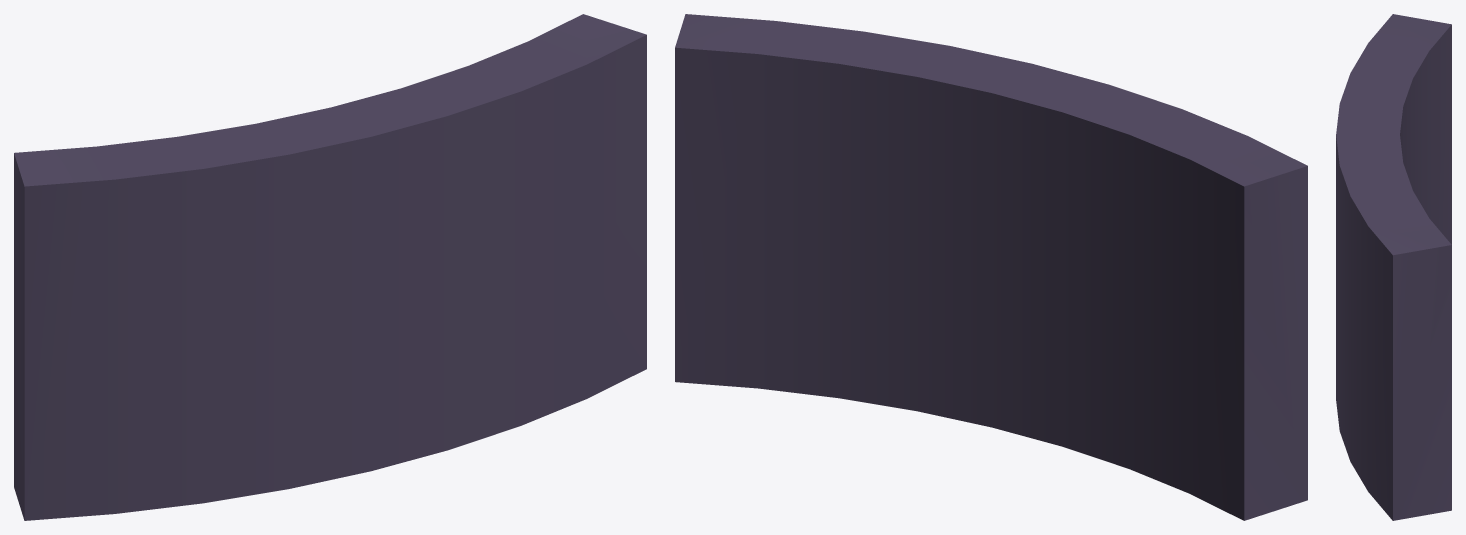
File: Outer_02.fbx
The picture shows the model from 3 angles, left to right: view 1: azimuth 30°, elevation 25°; view 2: azimuth 150°, elevation 25°; view 3: azimuth 270°, elevation 25°; orthographic projection. The views are drawn at different scales.
Visible parts, largest first — view 1: Outer_02; view 2: Outer_02; view 3: Outer_02.
Part boxes in pixels (box(x1,y1,x2,y2)): Outer_02: box(14, 14, 646, 520); Outer_02: box(675, 14, 1307, 520); Outer_02: box(1336, 14, 1451, 520).
Bounding box in the file's own units: 67.65 × 34.73 × 13.72.
